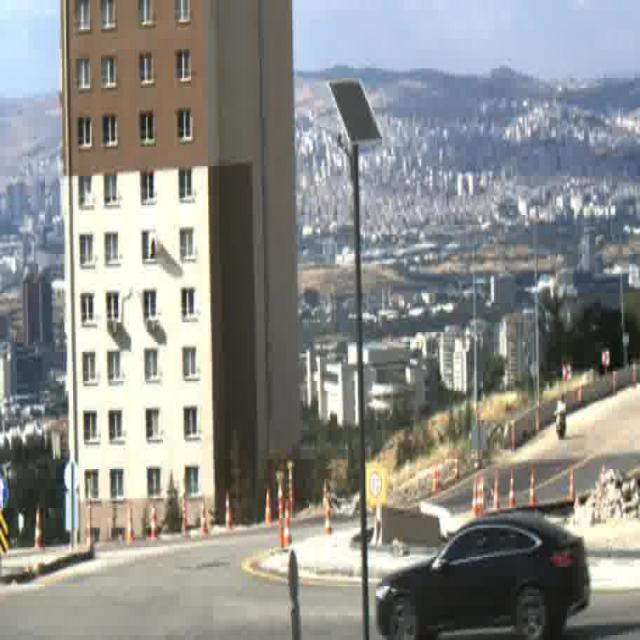Car: (375, 513, 589, 640)
Motorcycle: (554, 396, 566, 441)
